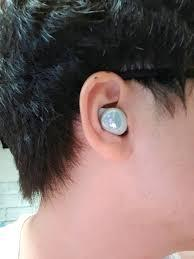earphone: (94, 100, 134, 135)
